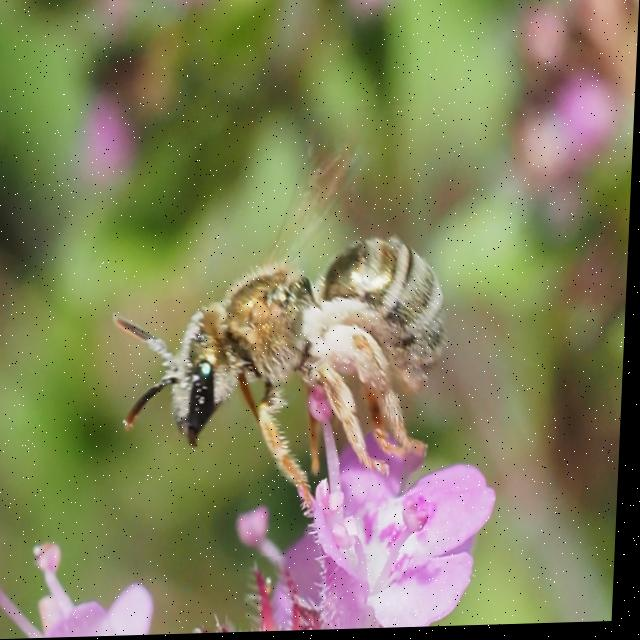Seladonia: (84, 106, 465, 563)
